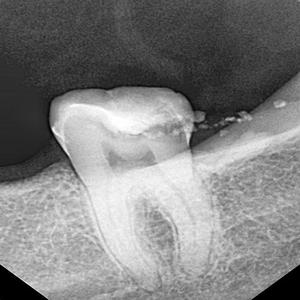tooth: (48, 92, 207, 286)
